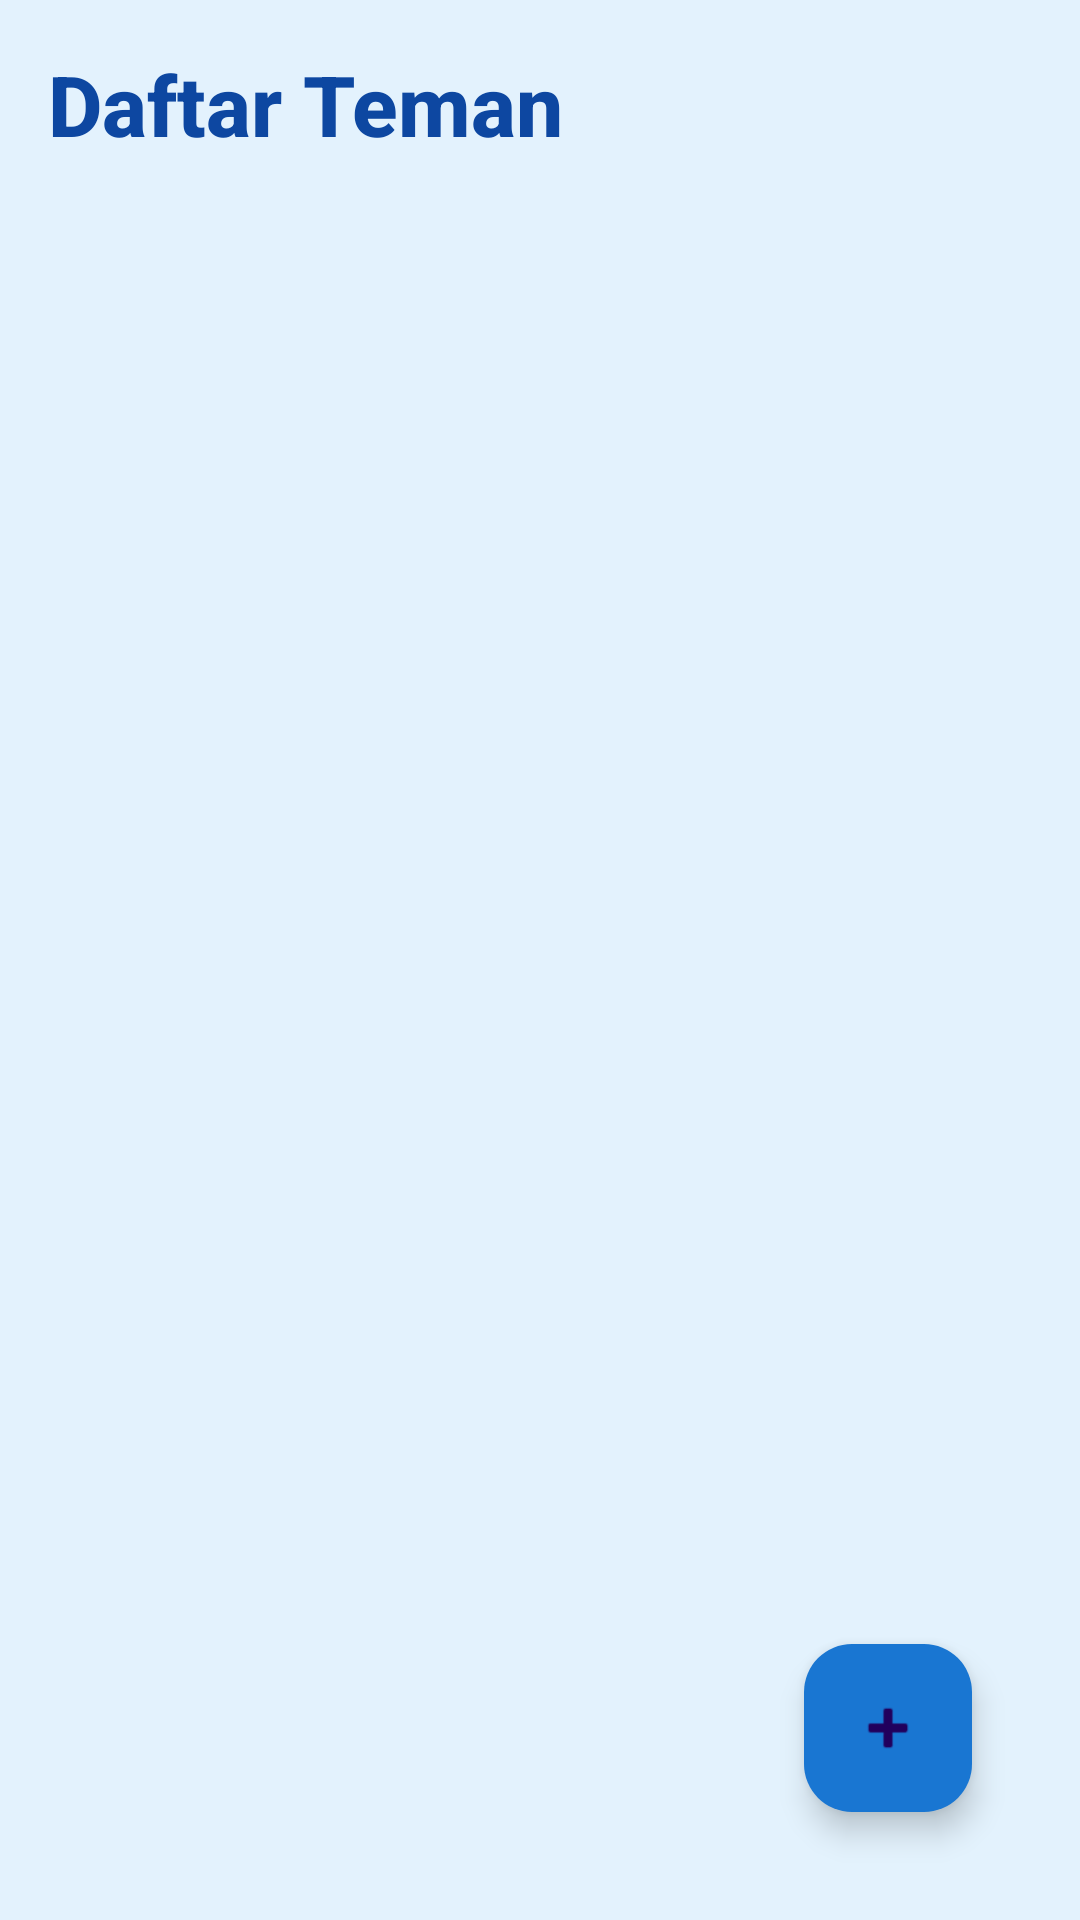

Icon click points for this 1080 × 1920 phone screenshot, format (x,y):
add: (888,1728)
